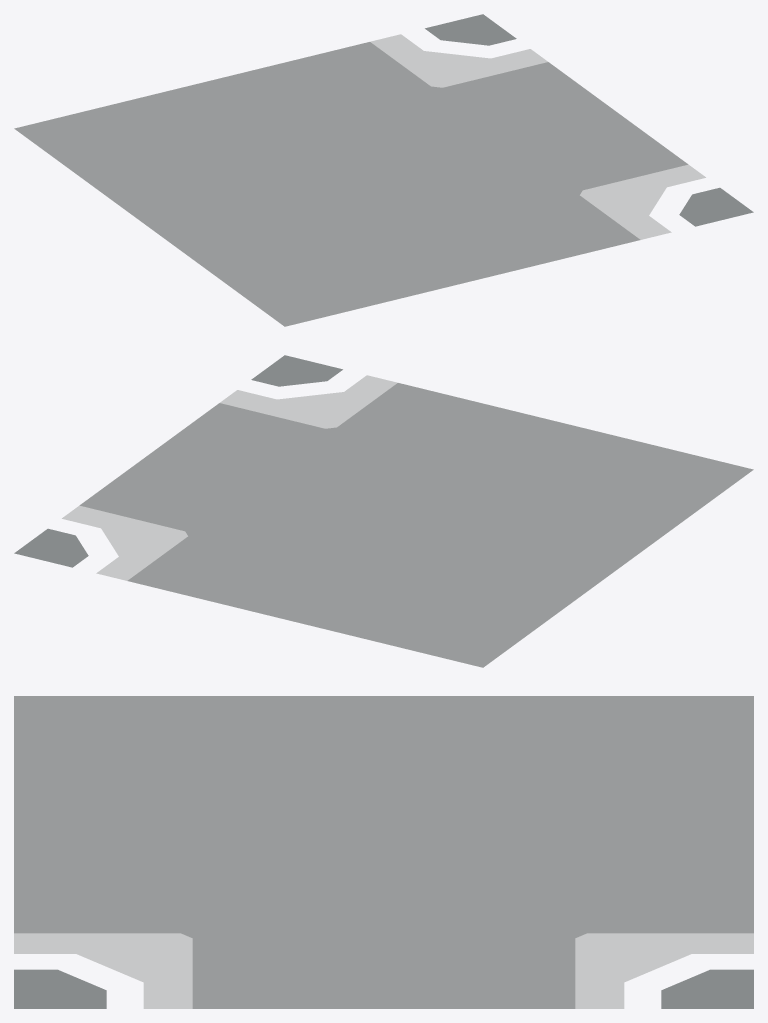
File: Ceiling_type_A_047.glb
3 renders of one model, top to bottom at view 1: azimuth 30°, elevation 25°; view 2: azimuth 150°, elevation 25°; view 3: azimuth 270°, elevation 25°, orthographic. The views are drawn at different scales.
Parts seen in each view (by area): view 1: Ceiling_type_A_047; view 2: Ceiling_type_A_047; view 3: Ceiling_type_A_047.
Boxes of the visible parts, x1,y1,x2,y2 form: Ceiling_type_A_047: (14,14,753,326); Ceiling_type_A_047: (14,355,753,667); Ceiling_type_A_047: (14,696,753,1008).
Size of the model in its own units: 4 by 0.035 by 4.
Materials: 2 (2 with a texture image).
